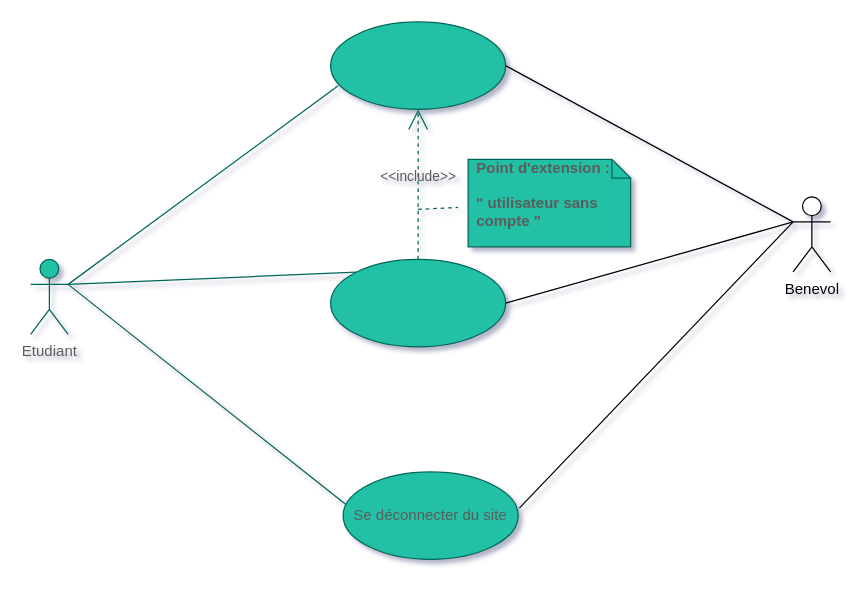
Image size: 868x589. Some labels were removed from this diagram. Here are the shapes that lost their labels. From the top down, the box of each, then its label:
(329, 21, 506, 109): Créer un nouveau compte
(329, 258, 506, 347): Se connecter au site
